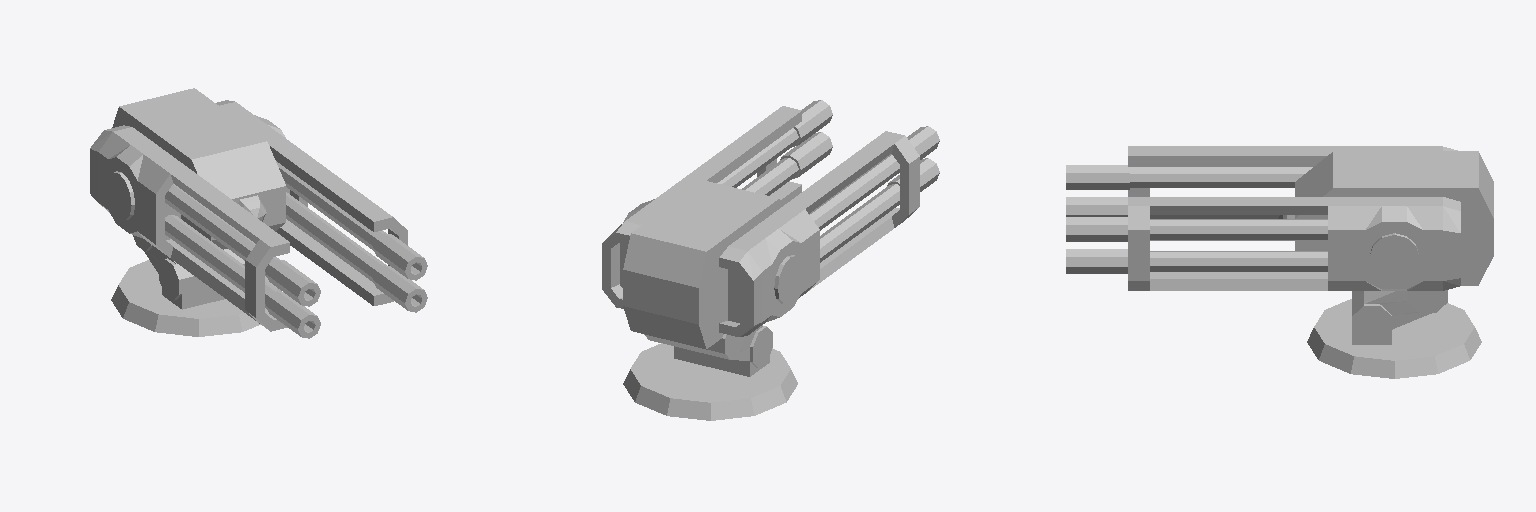
The model's file is Autogun.obj.
The picture shows the model from 3 angles: view 1: azimuth 30°, elevation 25°; view 2: azimuth 150°, elevation 25°; view 3: azimuth 270°, elevation 25°; orthographic projection.
Parts seen in each view (by area): view 1: Autogun:polySurface12; view 2: Autogun:polySurface12; view 3: Autogun:polySurface12.
Boxes of the visible parts, <box> form: Autogun:polySurface12: <box>90,88,427,338</box>; Autogun:polySurface12: <box>602,100,939,420</box>; Autogun:polySurface12: <box>1066,146,1493,378</box>.
Bounding box in the file's own units: 170 × 175 × 395.